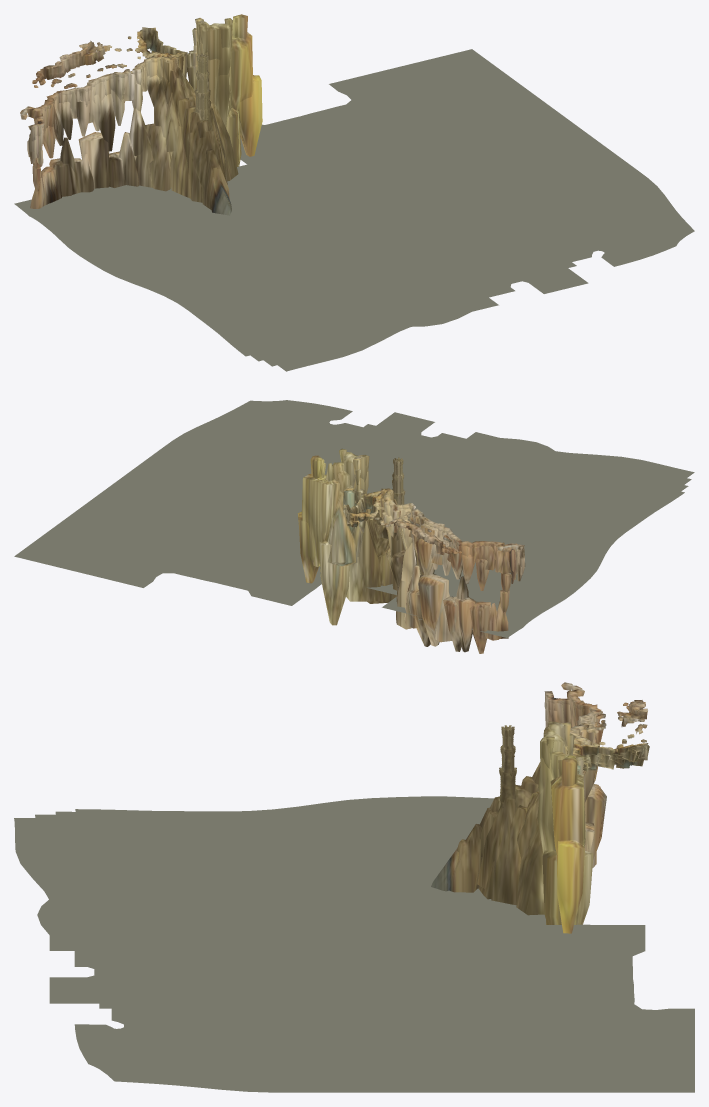
File: tile_0_3.glb
3 renders of one model, top to bottom at view 1: azimuth 30°, elevation 25°; view 2: azimuth 150°, elevation 25°; view 3: azimuth 270°, elevation 25°, orthographic. The views are drawn at different scales.
Visible parts, largest first — view 1: mesh[0].201, mesh[1].159, mesh[0].054, mesh[2].028; view 2: mesh[0].201, mesh[1].159, mesh[0].054, mesh[2].028; view 3: mesh[0].201, mesh[1].159, mesh[0].054, mesh[2].028.
Boxes of the visible parts, x1,y1,x2,y2 form: mesh[0].201: [14, 49, 694, 371]; mesh[1].159: [15, 49, 692, 371]; mesh[0].054: [20, 14, 262, 216]; mesh[2].028: [194, 53, 210, 120]; mesh[0].201: [14, 400, 692, 637]; mesh[1].159: [15, 400, 694, 637]; mesh[0].054: [297, 448, 525, 653]; mesh[2].028: [392, 457, 405, 504]; mesh[0].201: [14, 796, 694, 1092]; mesh[1].159: [15, 796, 694, 1092]; mesh[0].054: [431, 682, 649, 933]; mesh[2].028: [499, 725, 516, 800].
Bounding box in the file's own units: 3615 × 1302 × 3512.
2 materials, 1 textured.
